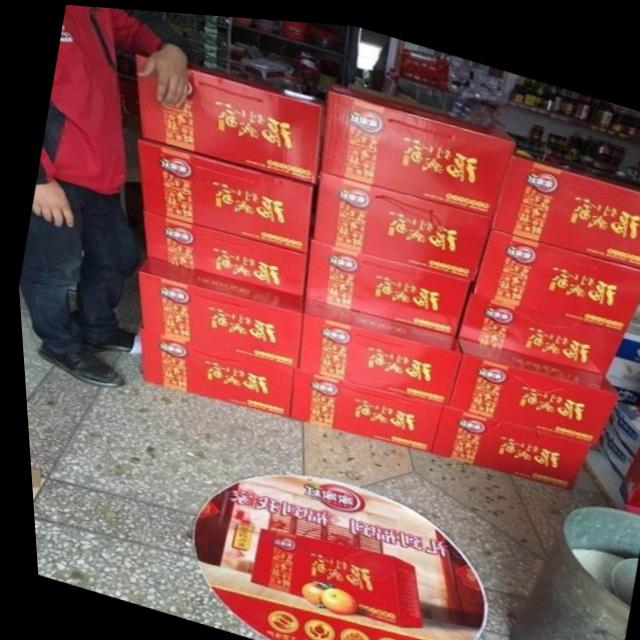box: (315, 77, 514, 209), (135, 53, 322, 180), (133, 136, 312, 248), (307, 165, 489, 275), (441, 328, 614, 438), (465, 221, 640, 325), (134, 254, 301, 362), (487, 144, 640, 260), (293, 294, 456, 399), (301, 234, 465, 328), (453, 280, 619, 366), (138, 208, 303, 293), (426, 398, 586, 482), (136, 328, 290, 413), (284, 364, 435, 447)
